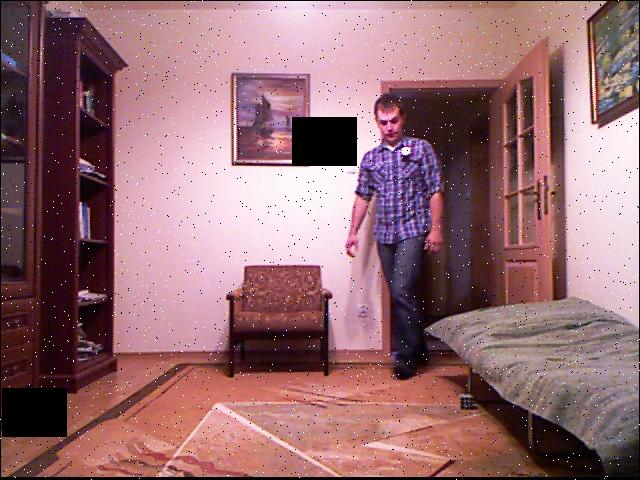walking: (342, 88, 451, 381)
